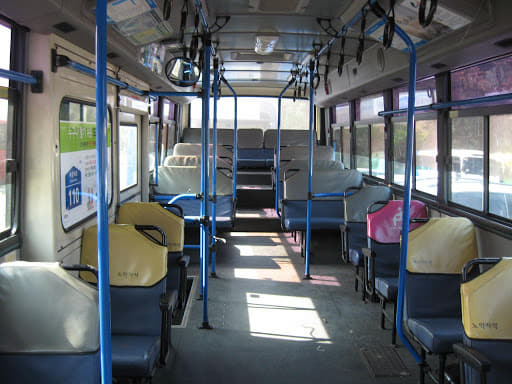seat: (400, 214, 480, 361)
